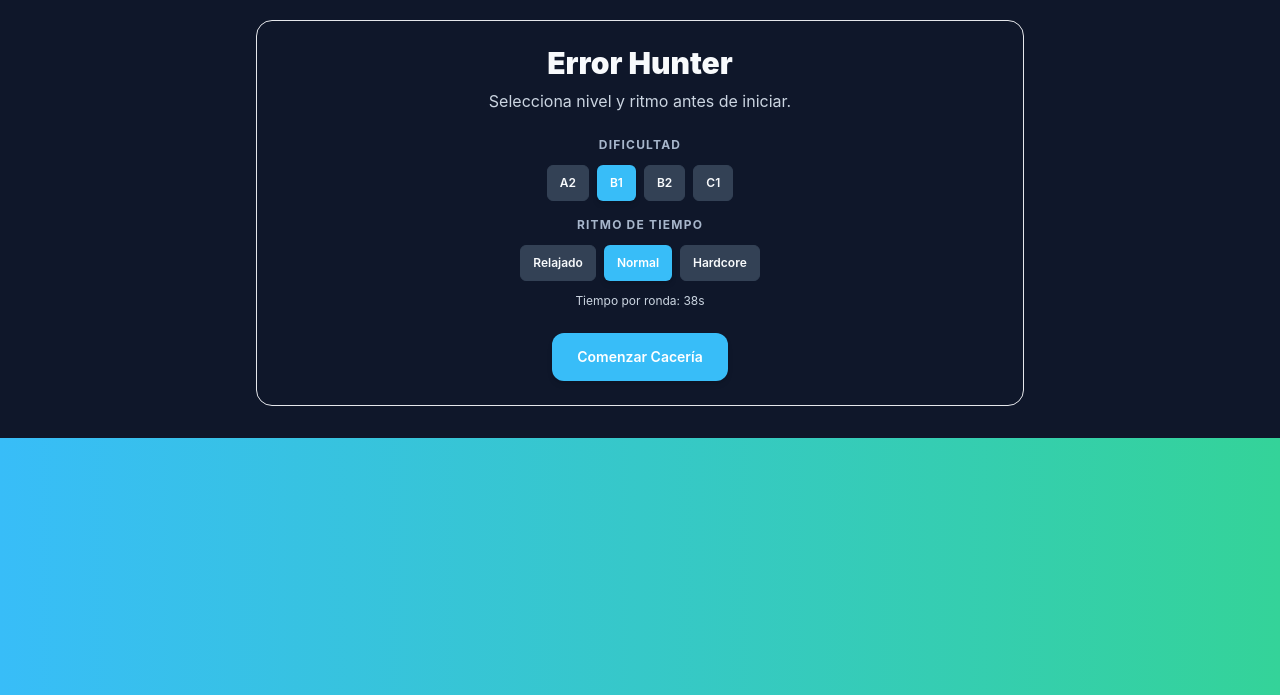
ErrorHunterView › adds score after entering a correct correction
Click the button "Comenzar Cacería" at (640, 357), box [552,333,728,381]
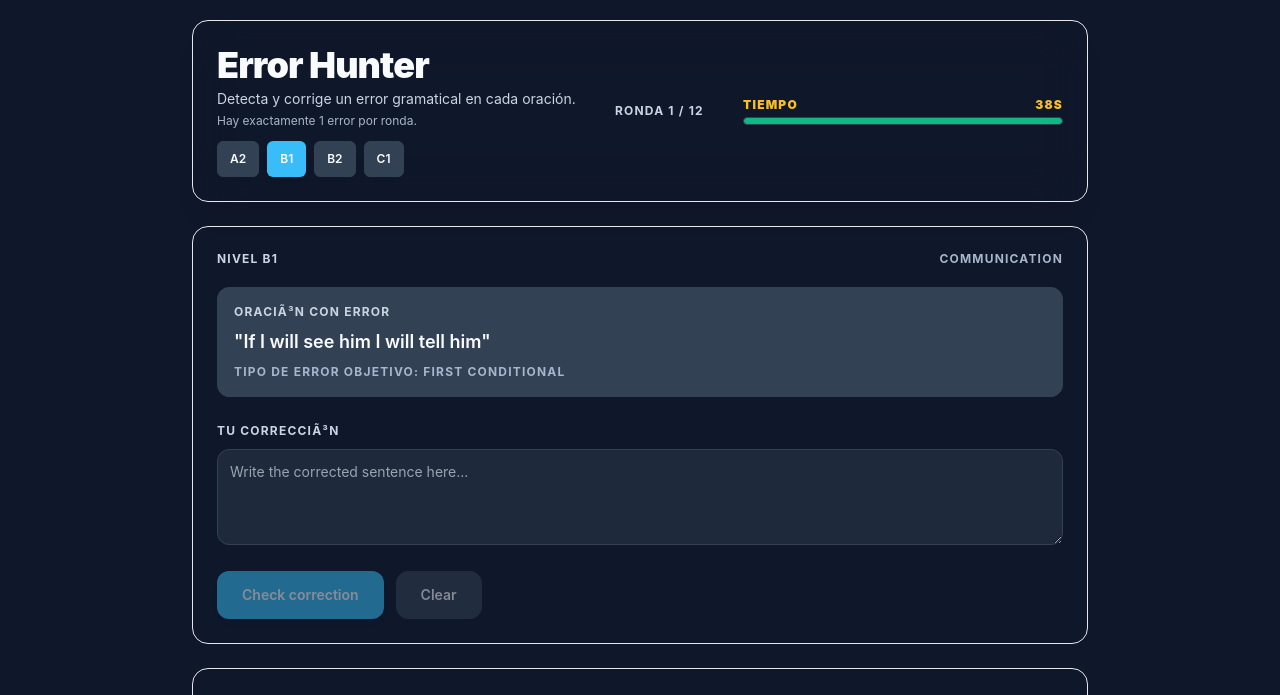
Type "If I see him I will tell him" into the text box labelled "Tu correcciÃ³n" at (640, 497), box [217,449,1063,545]
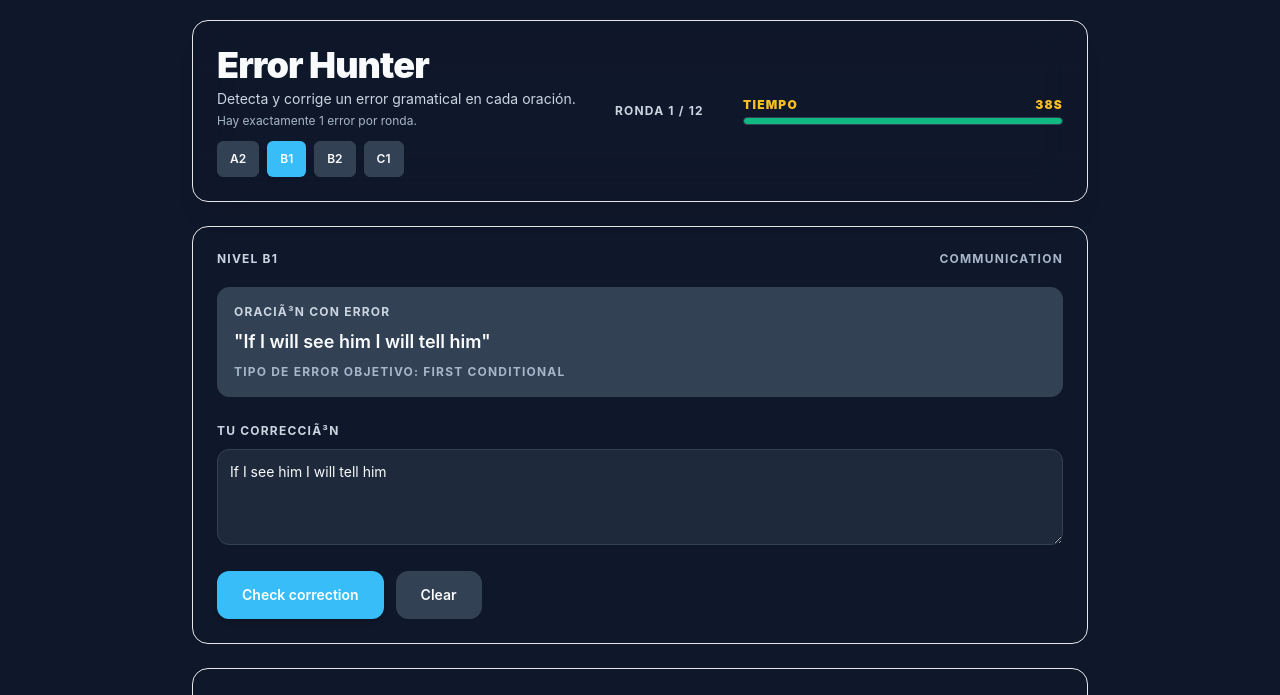
Click the button "Check correction" at (300, 595), box [217,571,384,619]
(page scrolled)
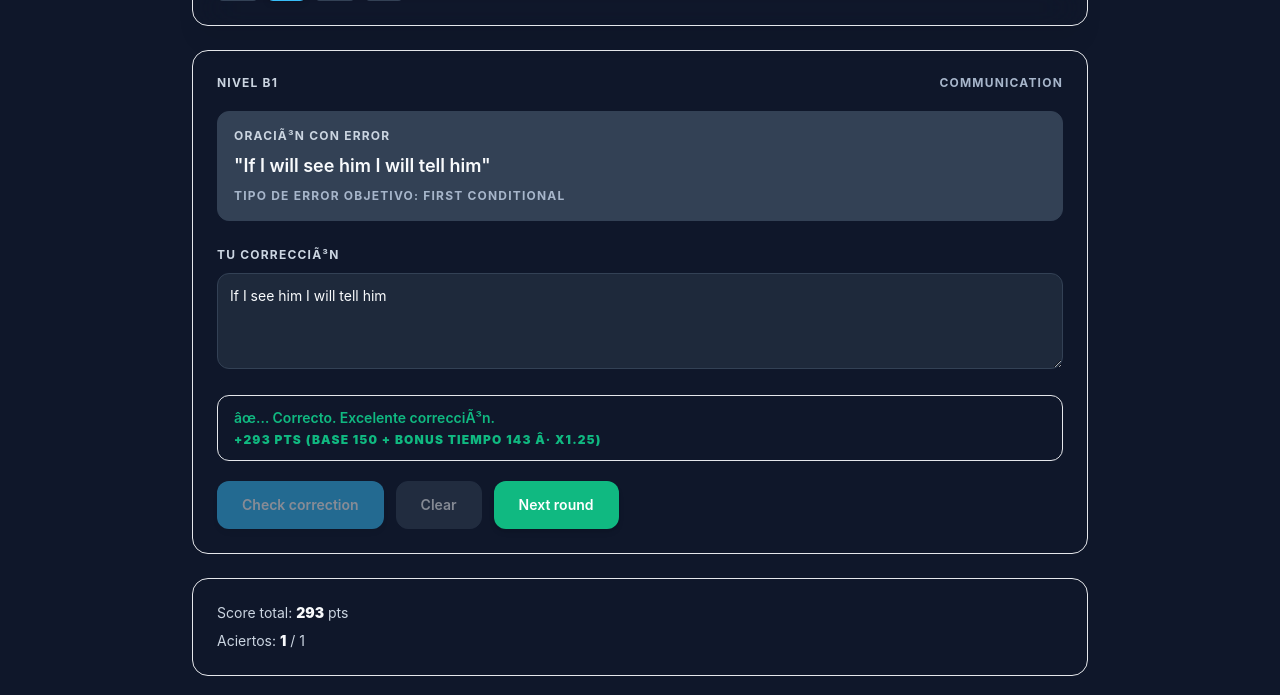
Check: the text "Score total: 293 pts" is shown, box [217,604,348,621]
Check: the text "âœ… Correcto. Excelente correcciÃ³n." is shown, box [234,409,495,426]
